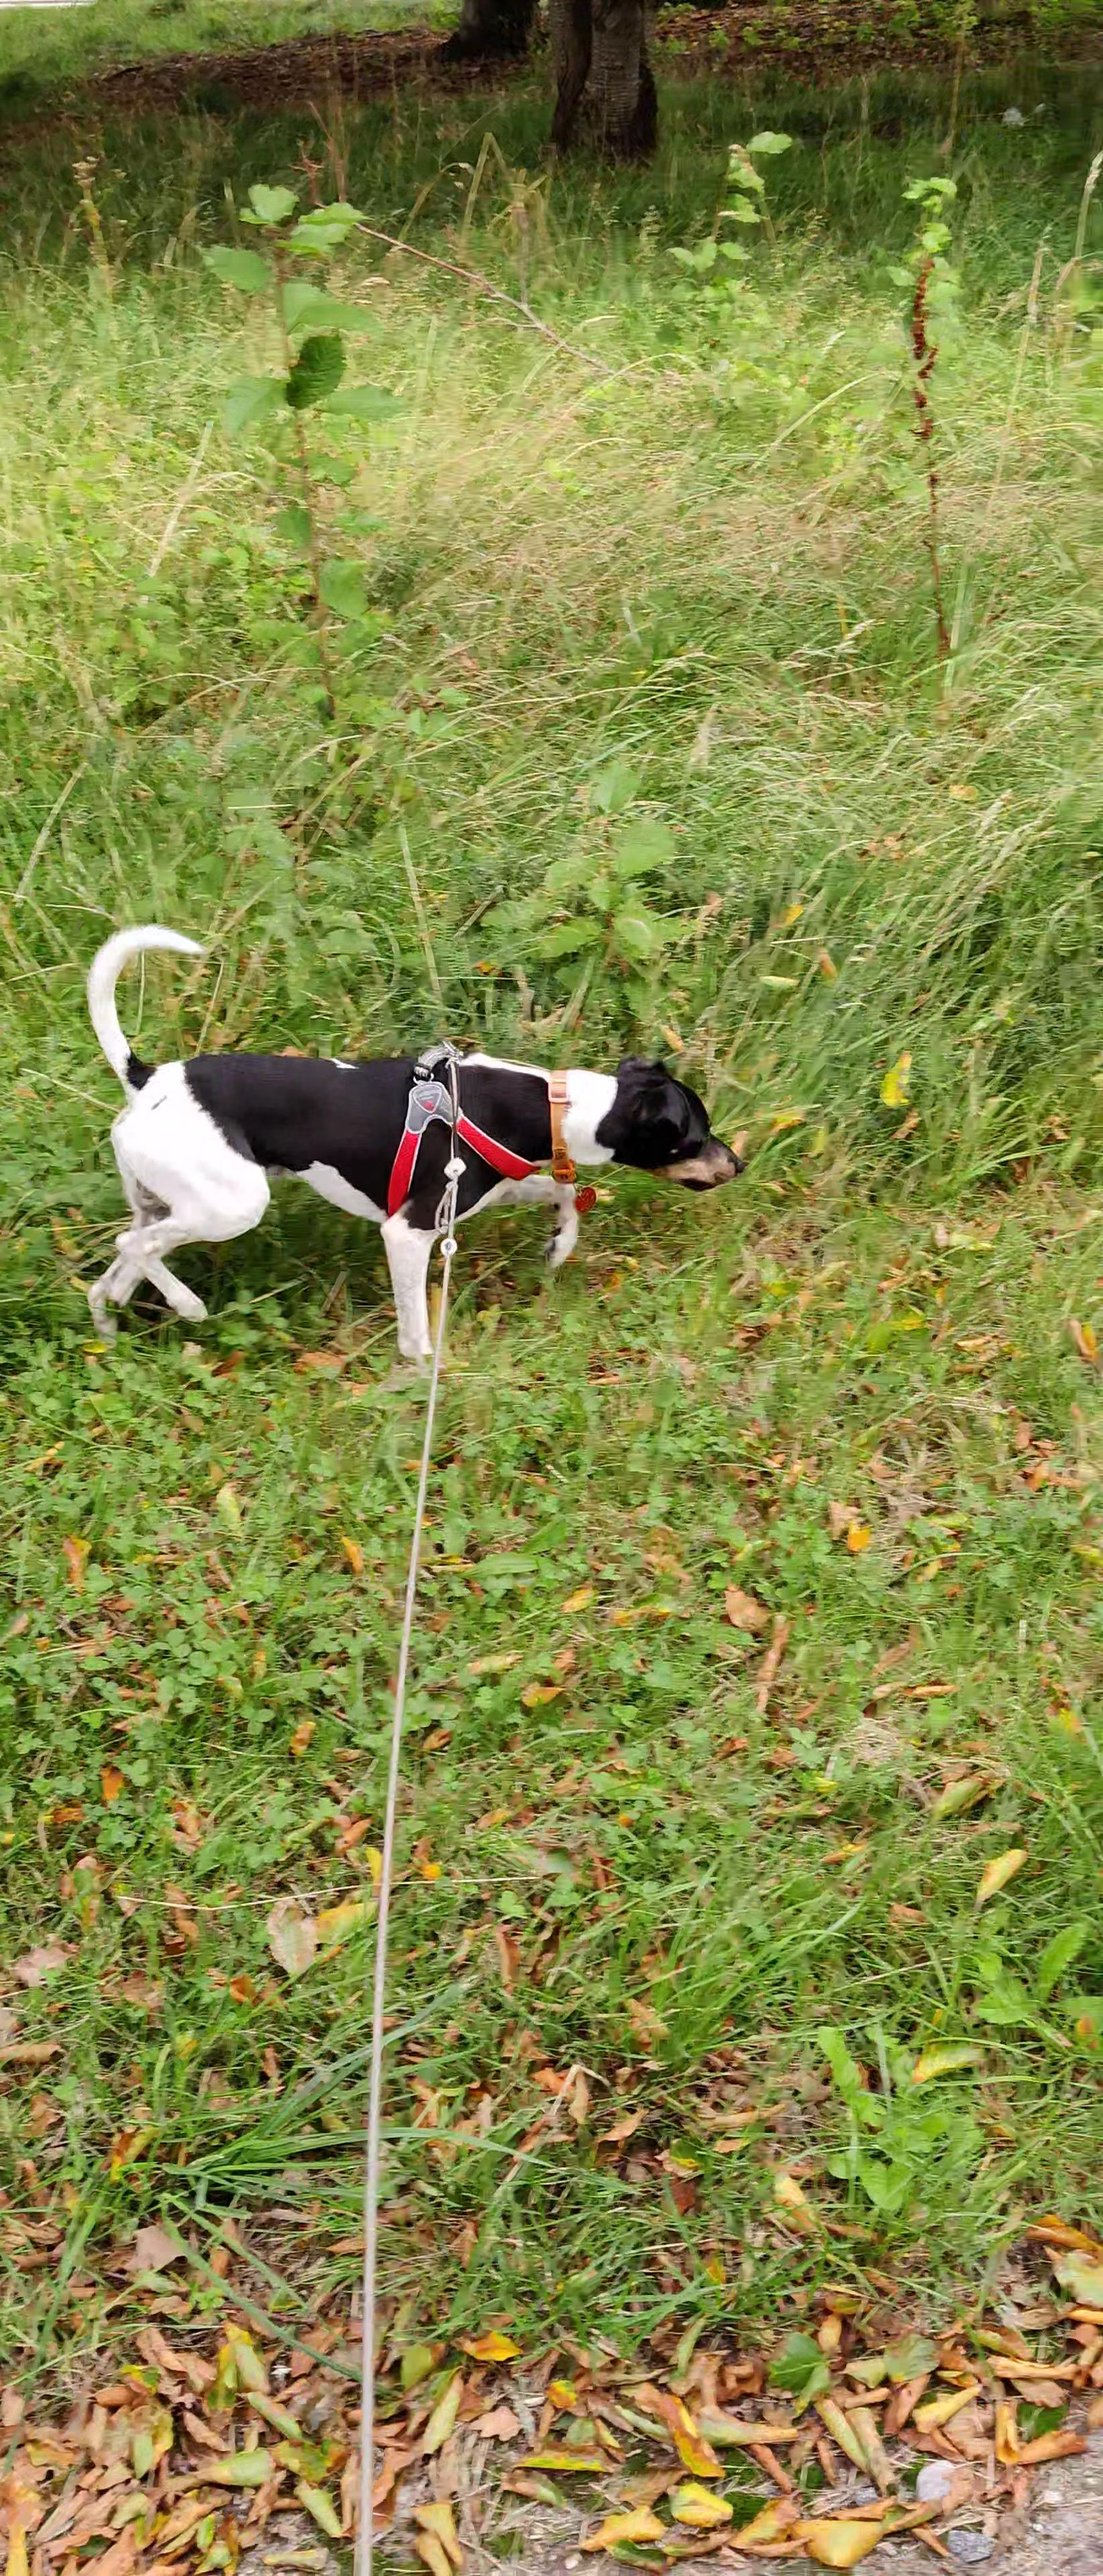Dog: (81, 915, 748, 1362)
